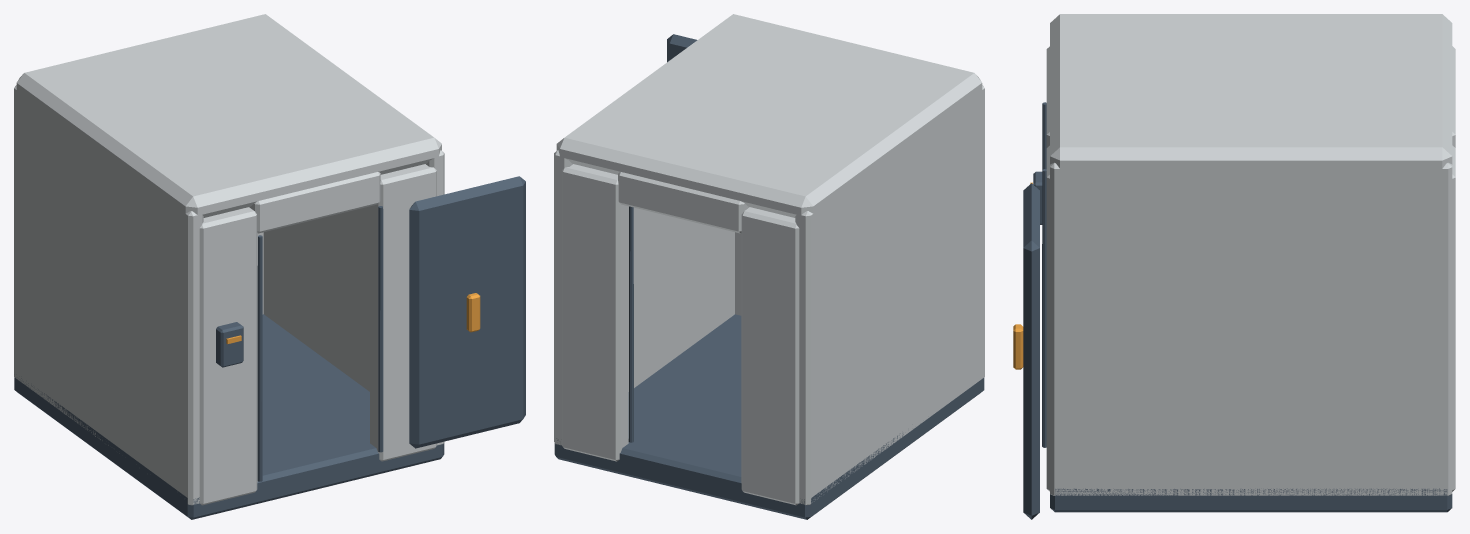
3 renders of one model, left to right at view 1: azimuth 30°, elevation 25°; view 2: azimuth 150°, elevation 25°; view 3: azimuth 270°, elevation 25°, orthographic. The views are drawn at different scales.
Parts seen in each view (by area): view 1: ME-002 Open lunar airlock vestibule batched; view 2: ME-002 Open lunar airlock vestibule batched; view 3: ME-002 Open lunar airlock vestibule batched.
Part boxes in pixels (x1=…): ME-002 Open lunar airlock vestibule batched: x1=14, y1=14, x2=525, y2=519; ME-002 Open lunar airlock vestibule batched: x1=554, y1=14, x2=984, y2=519; ME-002 Open lunar airlock vestibule batched: x1=1013, y1=14, x2=1455, y2=519.
Bounding box in the file's own units: 2.56 × 2.39 × 2.64.
